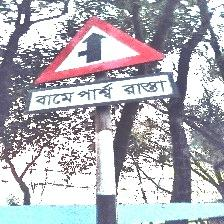Side-road-left: (26, 14, 175, 116)
